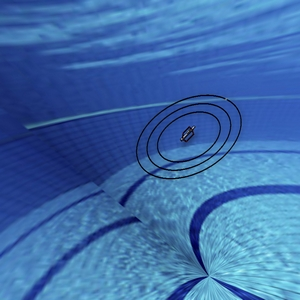circle: (128, 88, 256, 184)
submarine: (175, 119, 202, 148)
